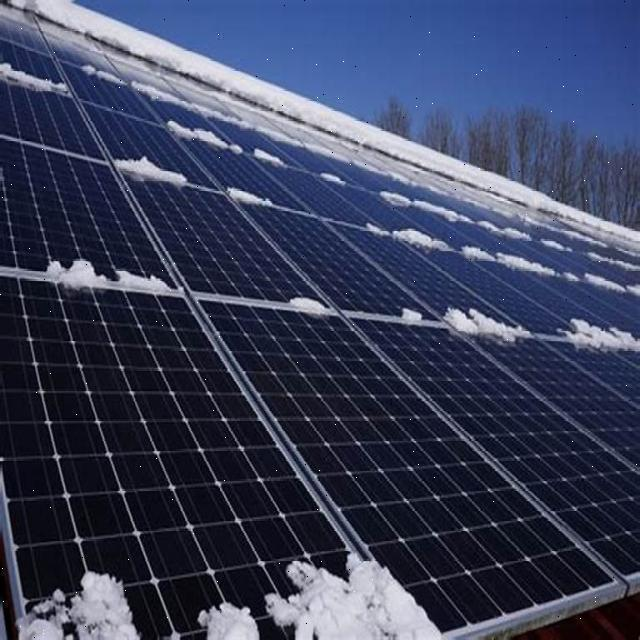Snow: (264, 551, 446, 640), (379, 188, 537, 245), (23, 570, 136, 639), (443, 300, 531, 356), (43, 259, 172, 294), (362, 214, 458, 258), (461, 241, 558, 281), (560, 314, 640, 355), (162, 119, 246, 153), (113, 148, 189, 185), (0, 60, 68, 100), (583, 270, 639, 296), (288, 292, 327, 317), (253, 143, 286, 171), (227, 187, 273, 206), (400, 307, 424, 322)
